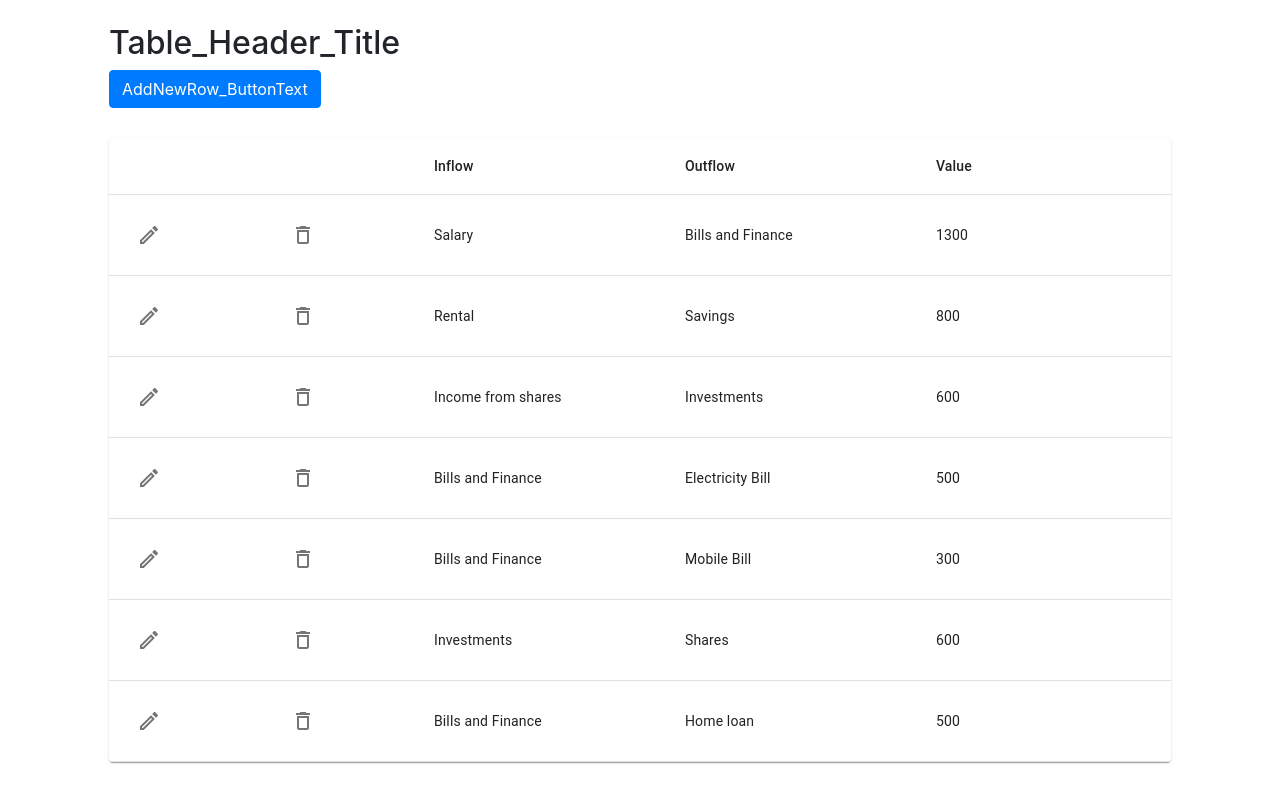
it: Table component › Disable done icon for empty outflow input value
Click the 1st button with test id "editInput". click: (149, 235)
box: [125,211,173,259]
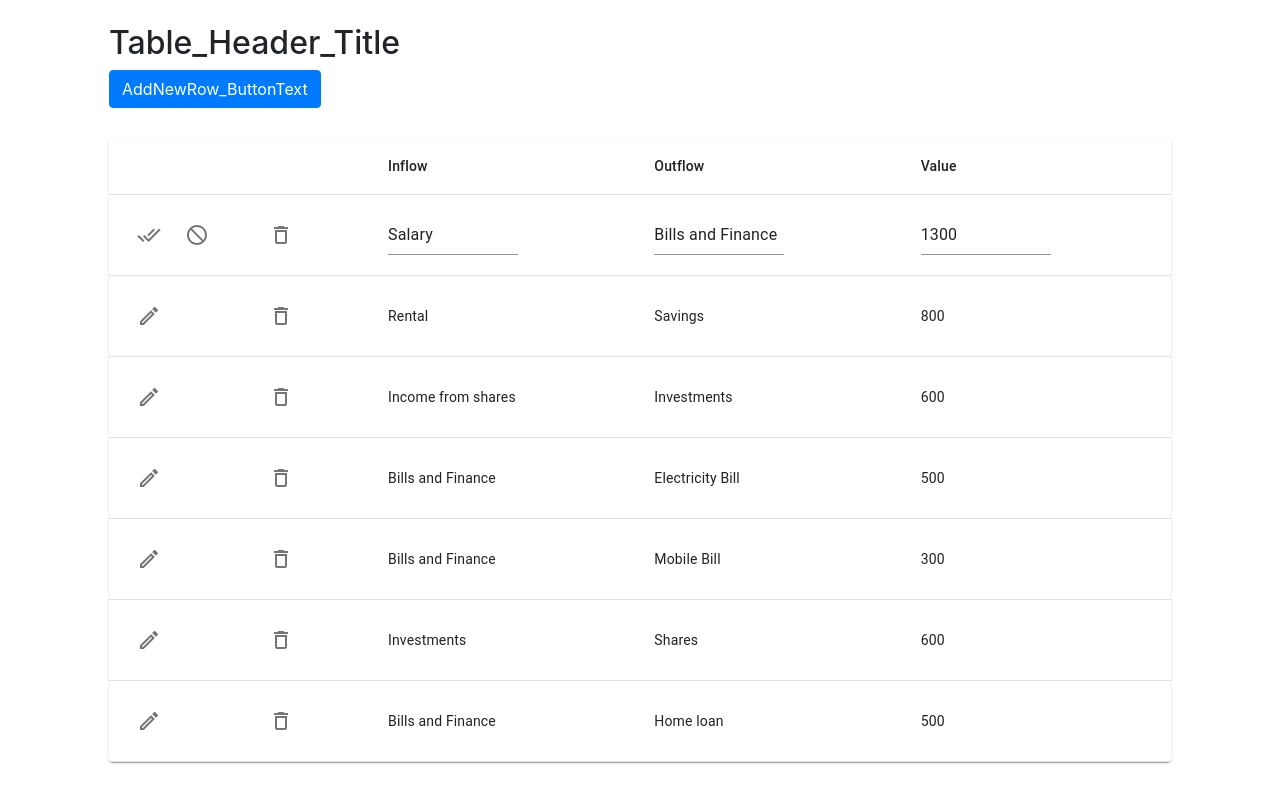
Now the number of buttons with test id "doneIcon" is 1, box [125,211,173,259]
Clear the field with test id "outflow". click: (719, 235)
box: [654,219,784,251]
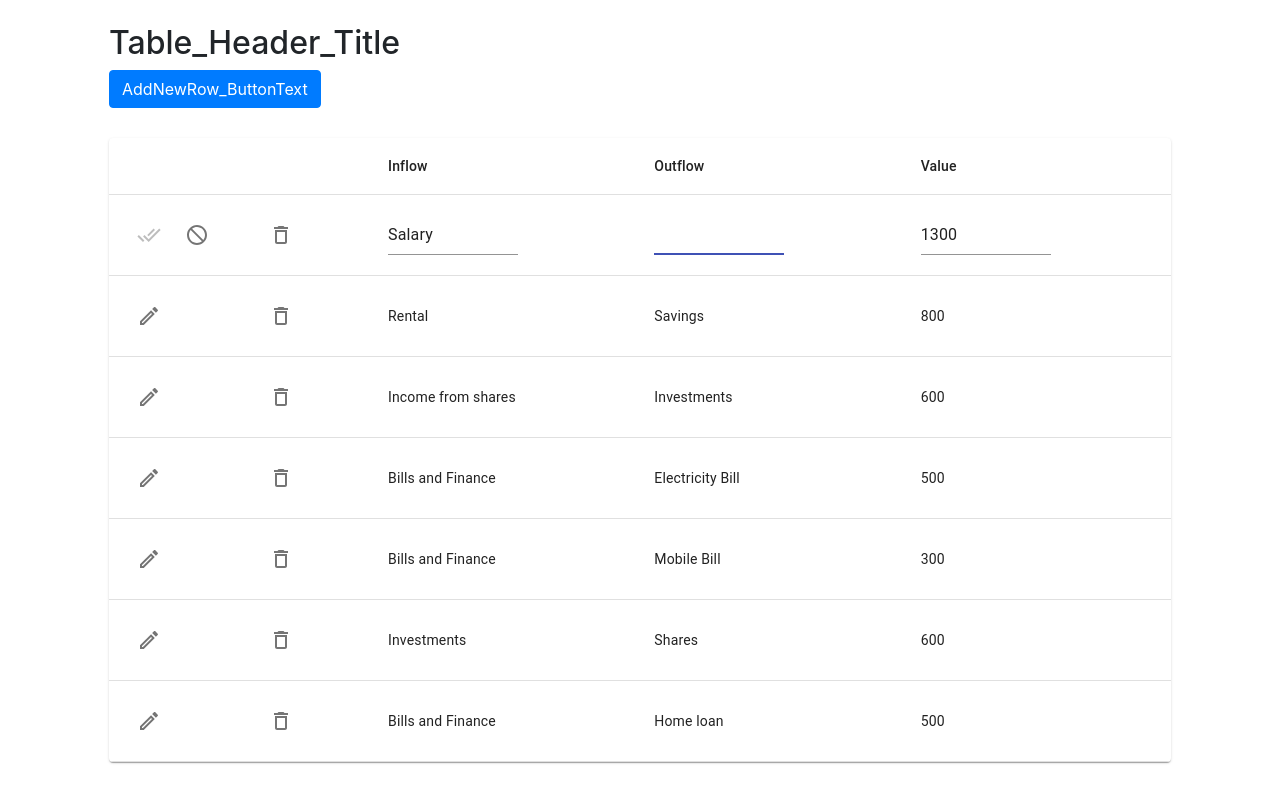
Now the button with test id "doneIcon" is disabled, box [125,211,173,259]
